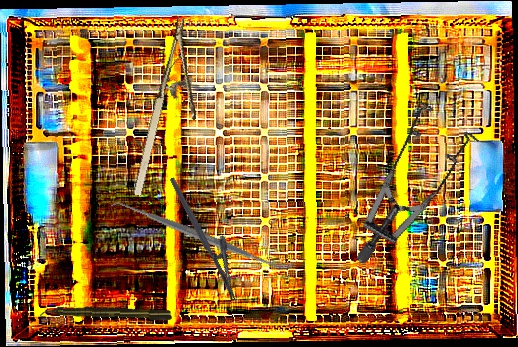Handpiece: (39, 304, 173, 322)
Needle Holder: (127, 16, 222, 205), (168, 168, 254, 303)
Spatula Surgical: (108, 191, 288, 280)
Speculum: (305, 84, 507, 268)
